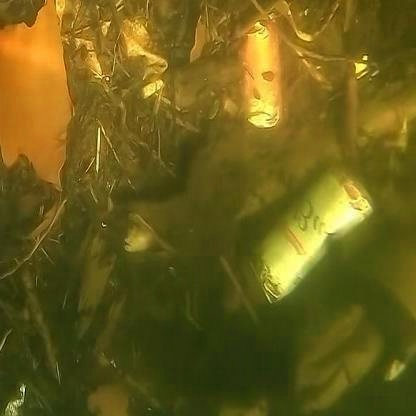can: (245, 177, 384, 311), (228, 7, 289, 137)
